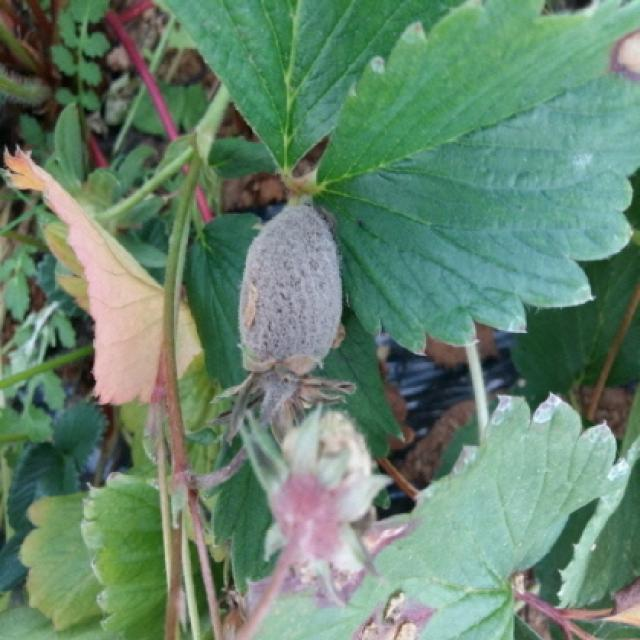Blossom Blight: (210, 205, 357, 451)
